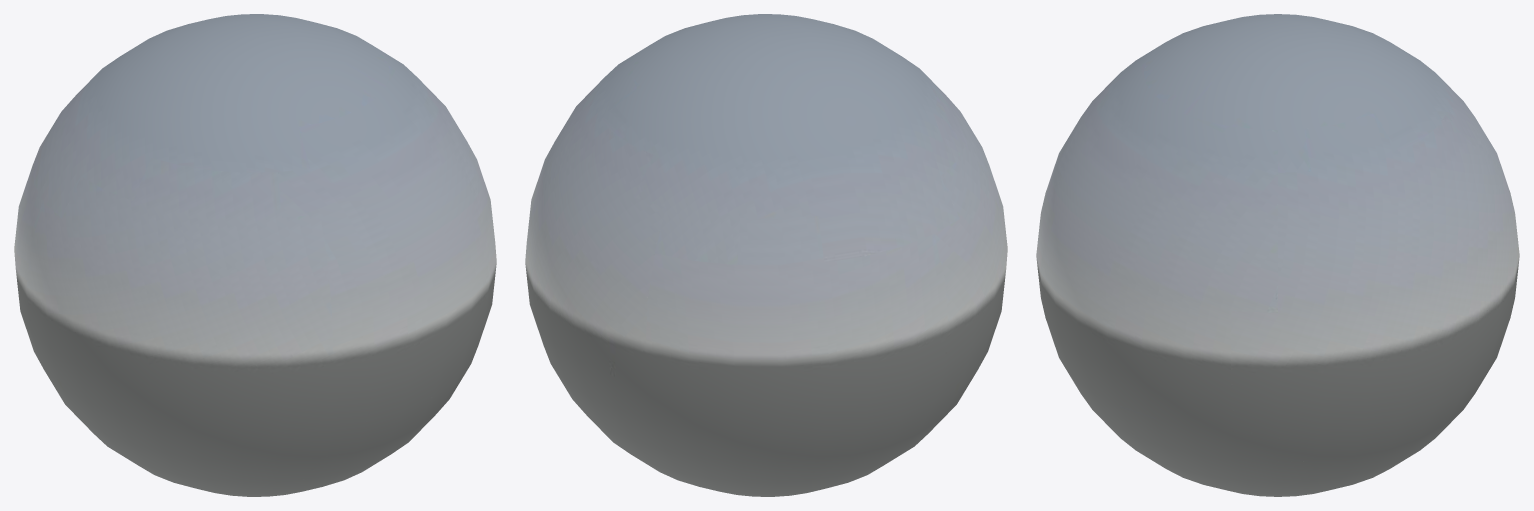
File: room.gltf
The picture shows the model from 3 angles, left to right: view 1: azimuth 30°, elevation 25°; view 2: azimuth 150°, elevation 25°; view 3: azimuth 270°, elevation 25°; orthographic projection.
Parts seen in each view (by area): view 1: SkyDome; view 2: SkyDome; view 3: SkyDome.
Part boxes in pixels (left/top/right/bottom): SkyDome: left=14, top=14, right=496, bottom=496; SkyDome: left=525, top=14, right=1007, bottom=496; SkyDome: left=1036, top=14, right=1519, bottom=496.
Size of the model in its own units: 240 by 240 by 240.
42 materials, 42 textured.
